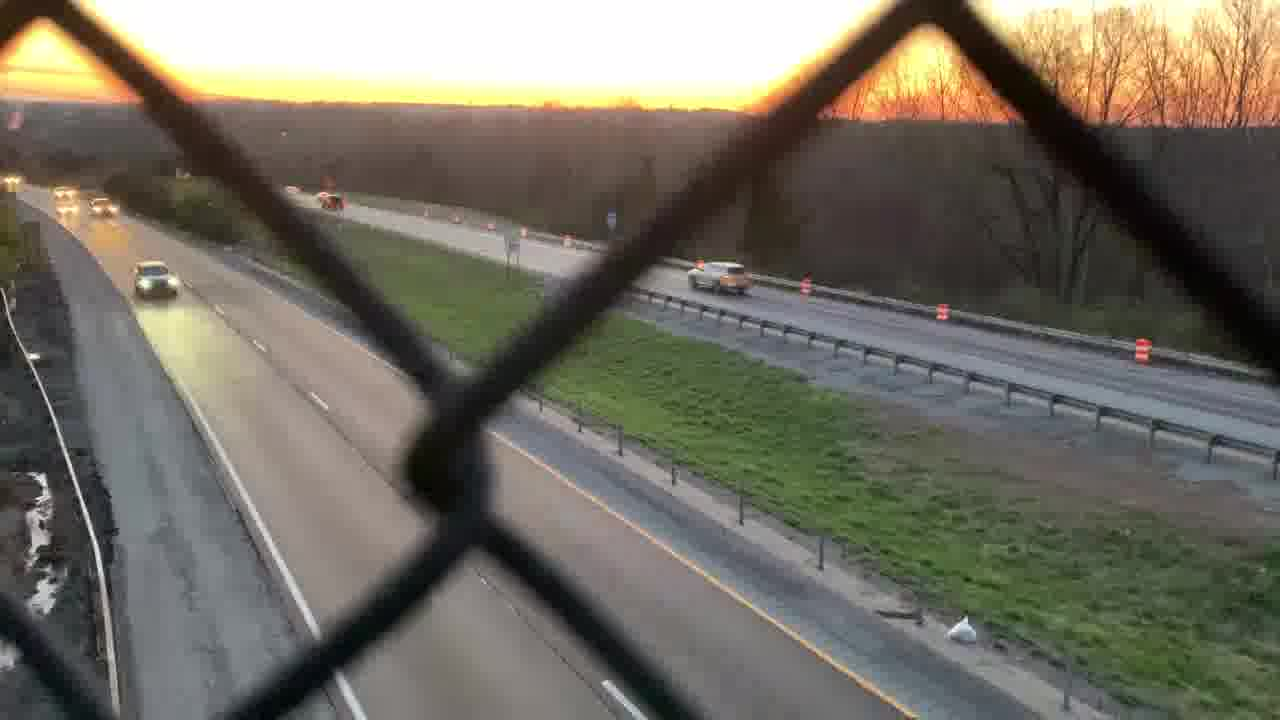largeCar: (132, 257, 183, 300), (686, 263, 751, 293)
vehicle: (86, 195, 120, 219), (51, 198, 82, 216), (3, 168, 30, 187), (52, 186, 83, 202), (318, 196, 347, 213)
